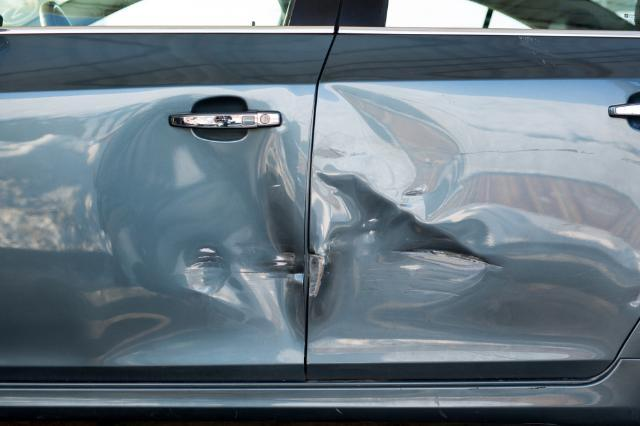dent: (98, 104, 306, 328), (309, 85, 493, 332)
